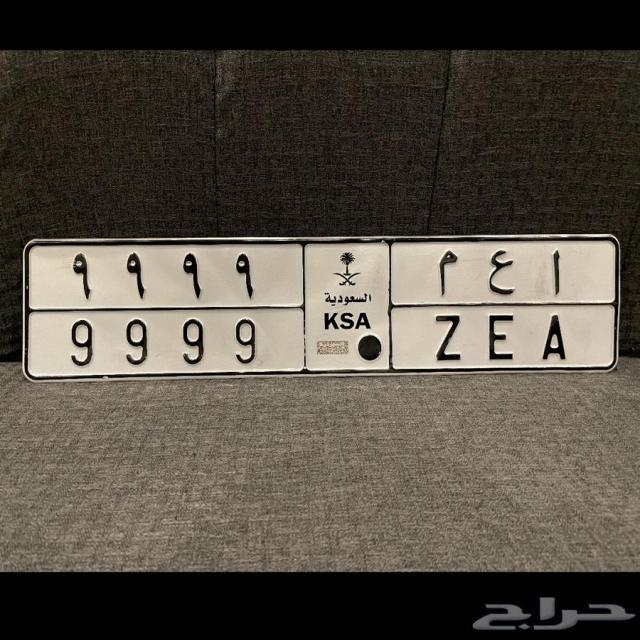license_plate: (27, 305, 620, 371)
